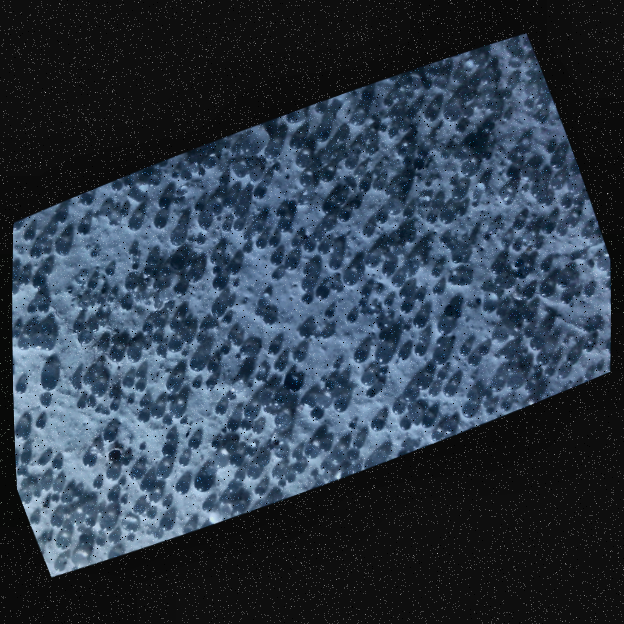GlassBeadSeg: (84, 185, 545, 561), (25, 228, 592, 460), (12, 144, 535, 387), (146, 222, 551, 532), (40, 157, 564, 382), (40, 181, 563, 393), (37, 304, 570, 505), (143, 160, 422, 520), (121, 199, 429, 522), (14, 214, 437, 441), (56, 216, 443, 460), (181, 166, 479, 482), (46, 178, 561, 357), (89, 151, 450, 405), (244, 168, 536, 479), (108, 229, 591, 413), (68, 243, 572, 419), (244, 216, 571, 480), (19, 292, 423, 504), (127, 151, 466, 401), (185, 161, 477, 451), (226, 206, 512, 502), (245, 209, 551, 471), (251, 123, 466, 495), (35, 300, 359, 539), (71, 322, 472, 513), (118, 292, 425, 540), (155, 282, 610, 447), (85, 281, 521, 452), (14, 303, 412, 490), (161, 187, 470, 427), (114, 323, 448, 543), (143, 91, 535, 277), (239, 185, 610, 372), (209, 161, 434, 446), (152, 153, 517, 327), (115, 217, 405, 433), (307, 227, 567, 466), (91, 274, 376, 490), (172, 157, 357, 488), (168, 231, 444, 443), (26, 270, 359, 438), (84, 272, 508, 403), (344, 170, 523, 460), (95, 148, 428, 300), (28, 300, 251, 525), (188, 285, 553, 416), (126, 246, 329, 478), (103, 268, 347, 461), (100, 339, 545, 444), (106, 348, 413, 497), (190, 154, 356, 428), (208, 253, 414, 470), (69, 343, 259, 566), (177, 154, 311, 462), (38, 323, 364, 448), (19, 337, 334, 465), (13, 269, 200, 482), (29, 341, 289, 493), (168, 202, 388, 376), (165, 286, 602, 373), (38, 236, 550, 308), (336, 224, 610, 353), (38, 338, 511, 412), (17, 255, 381, 350), (183, 181, 580, 268), (126, 217, 550, 298), (91, 251, 226, 505), (168, 231, 348, 413), (49, 349, 306, 471), (106, 353, 369, 472), (67, 216, 251, 382), (146, 388, 418, 498), (39, 336, 446, 409), (411, 288, 589, 448), (33, 334, 323, 430), (33, 196, 316, 293), (43, 343, 367, 426), (16, 330, 169, 501), (54, 445, 319, 543), (188, 267, 442, 366), (90, 347, 393, 428), (371, 38, 531, 191), (80, 271, 202, 468), (315, 309, 480, 452), (73, 303, 174, 532), (160, 397, 346, 509), (362, 209, 537, 323), (273, 333, 536, 407), (448, 149, 607, 271), (466, 261, 591, 410), (170, 258, 246, 503), (94, 213, 286, 306), (172, 284, 385, 367), (244, 244, 423, 342), (226, 374, 524, 432), (98, 285, 394, 342), (54, 243, 330, 301), (112, 343, 253, 456), (343, 313, 535, 394), (188, 258, 246, 515), (75, 331, 171, 479), (84, 324, 153, 529), (32, 276, 137, 410), (12, 220, 60, 498), (38, 395, 147, 515), (16, 378, 145, 476), (209, 303, 353, 390), (31, 470, 284, 517), (141, 204, 222, 334), (86, 321, 341, 362), (166, 385, 455, 419), (313, 129, 349, 388), (197, 104, 324, 176), (495, 39, 526, 286), (265, 334, 325, 458), (55, 502, 213, 549), (95, 341, 232, 395), (349, 107, 458, 174), (270, 274, 306, 475), (165, 377, 242, 468), (21, 474, 120, 544), (378, 92, 545, 132), (222, 239, 299, 325), (209, 354, 314, 416), (198, 135, 331, 181), (466, 338, 543, 417), (382, 70, 492, 121), (272, 377, 377, 429), (230, 196, 253, 432), (246, 329, 315, 407), (445, 277, 535, 336), (428, 213, 457, 396), (122, 325, 206, 388), (488, 215, 579, 271), (451, 151, 549, 200), (399, 363, 453, 449), (231, 425, 303, 483), (233, 165, 330, 205), (294, 129, 374, 177), (356, 180, 430, 231), (372, 375, 437, 431), (507, 332, 589, 376), (125, 347, 171, 425), (50, 492, 118, 544), (227, 457, 328, 492), (159, 222, 221, 276), (462, 196, 528, 246), (319, 419, 379, 473), (465, 61, 531, 110), (190, 157, 267, 199), (560, 301, 609, 361), (392, 103, 495, 131), (179, 333, 234, 385), (313, 285, 414, 313), (90, 382, 164, 419), (326, 258, 495, 274), (278, 203, 333, 252), (473, 60, 539, 98), (560, 259, 610, 307), (124, 163, 198, 195), (361, 227, 425, 264), (304, 215, 348, 268), (204, 378, 258, 420), (91, 367, 148, 405), (13, 212, 56, 258), (193, 203, 251, 237), (212, 222, 242, 284), (118, 187, 178, 217), (50, 517, 112, 546), (330, 360, 376, 398), (396, 238, 452, 269), (251, 223, 290, 265), (53, 522, 86, 571), (54, 194, 92, 235), (131, 259, 170, 298), (461, 90, 510, 120), (450, 228, 491, 263), (53, 486, 83, 533), (334, 182, 368, 222), (176, 439, 221, 468), (449, 230, 536, 245), (501, 192, 578, 208), (144, 293, 170, 339), (483, 226, 525, 252), (212, 282, 238, 323), (158, 465, 191, 495), (490, 349, 513, 392), (152, 333, 204, 352), (284, 241, 312, 276), (565, 342, 590, 379), (437, 190, 463, 223), (481, 378, 501, 415), (107, 292, 161, 304), (109, 180, 122, 227), (182, 321, 205, 344), (231, 220, 250, 241), (134, 381, 147, 409), (299, 327, 325, 339), (496, 263, 505, 275), (359, 290, 367, 298)
